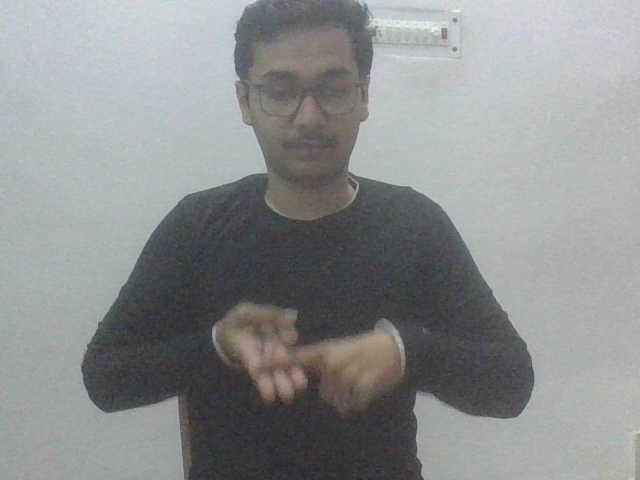E: (207, 291, 408, 414)
